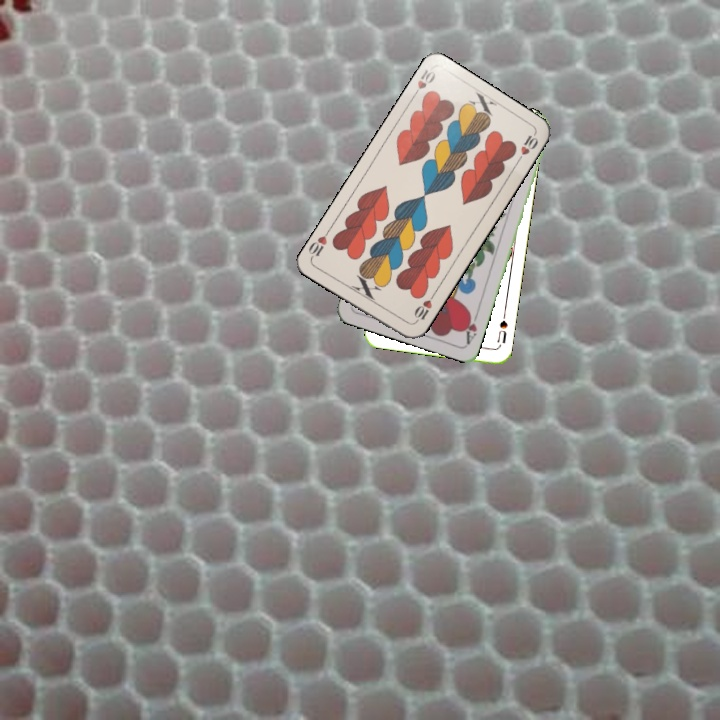H10: (408, 65, 438, 101), (410, 290, 437, 326)
HA: (460, 307, 481, 347)
SU: (493, 309, 510, 346)
